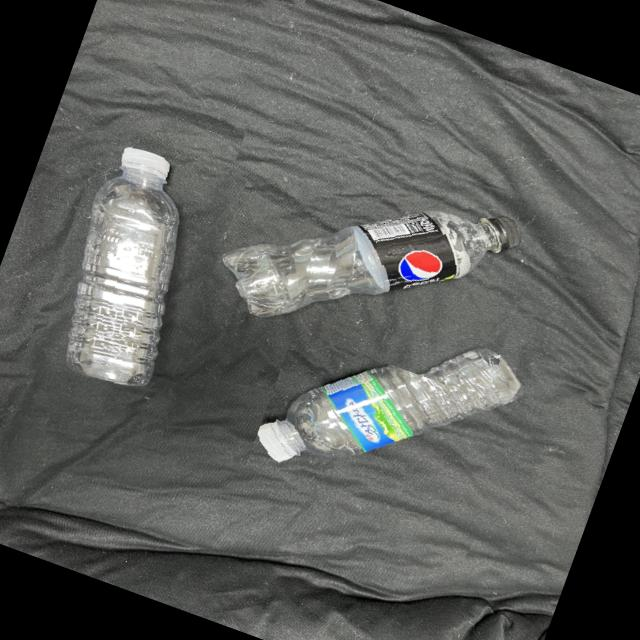plastic bottle: (254, 325, 538, 487), (206, 194, 535, 324), (50, 133, 203, 407)
